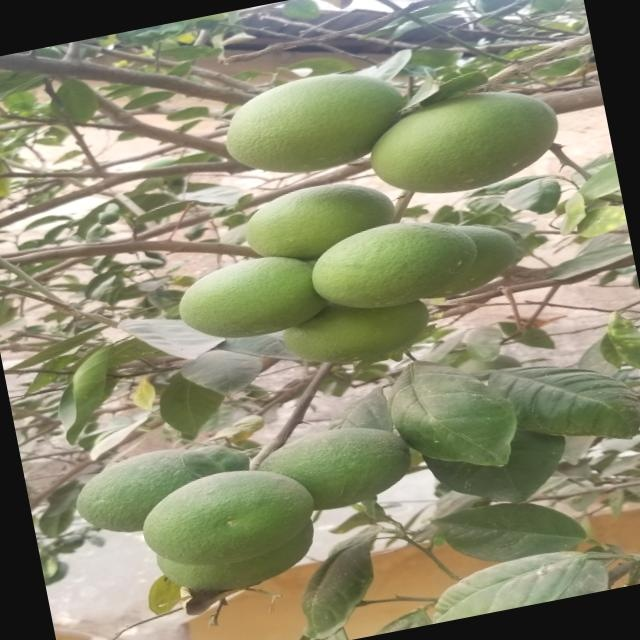agrume: (360, 78, 573, 206), (226, 64, 414, 188), (136, 455, 320, 576), (228, 168, 430, 273), (258, 414, 427, 523), (171, 245, 329, 358), (314, 210, 458, 319), (73, 443, 215, 541), (294, 296, 436, 376), (168, 539, 296, 609), (459, 207, 525, 293), (199, 426, 253, 485)
